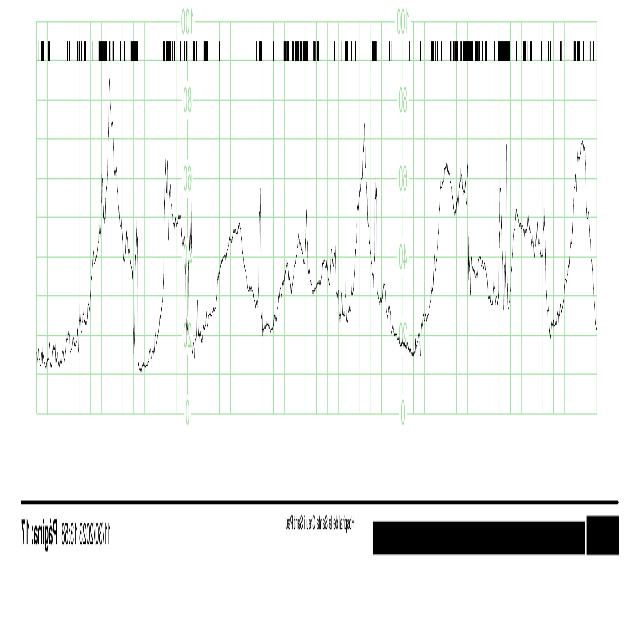contraction: (88, 77, 134, 338), (564, 141, 597, 330), (156, 158, 188, 342), (510, 205, 550, 330), (433, 160, 471, 284), (352, 127, 371, 255), (497, 152, 507, 307), (256, 185, 266, 328), (134, 226, 142, 372), (188, 212, 195, 346), (373, 178, 380, 303)
